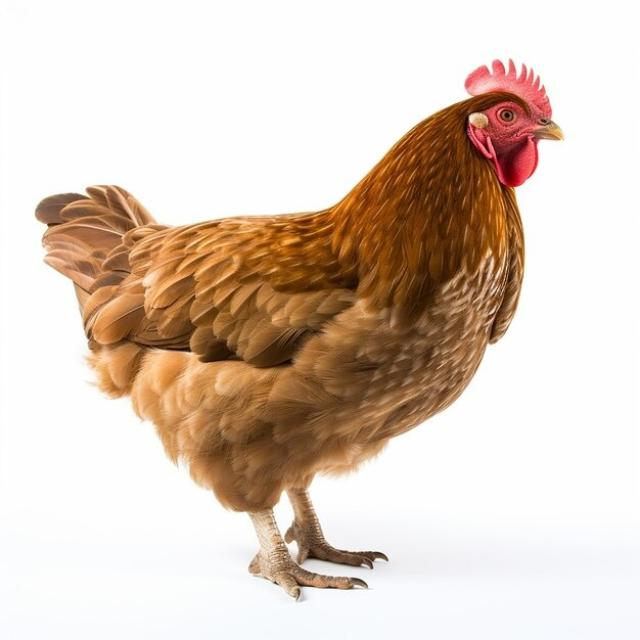Chicken: (33, 56, 564, 603)
